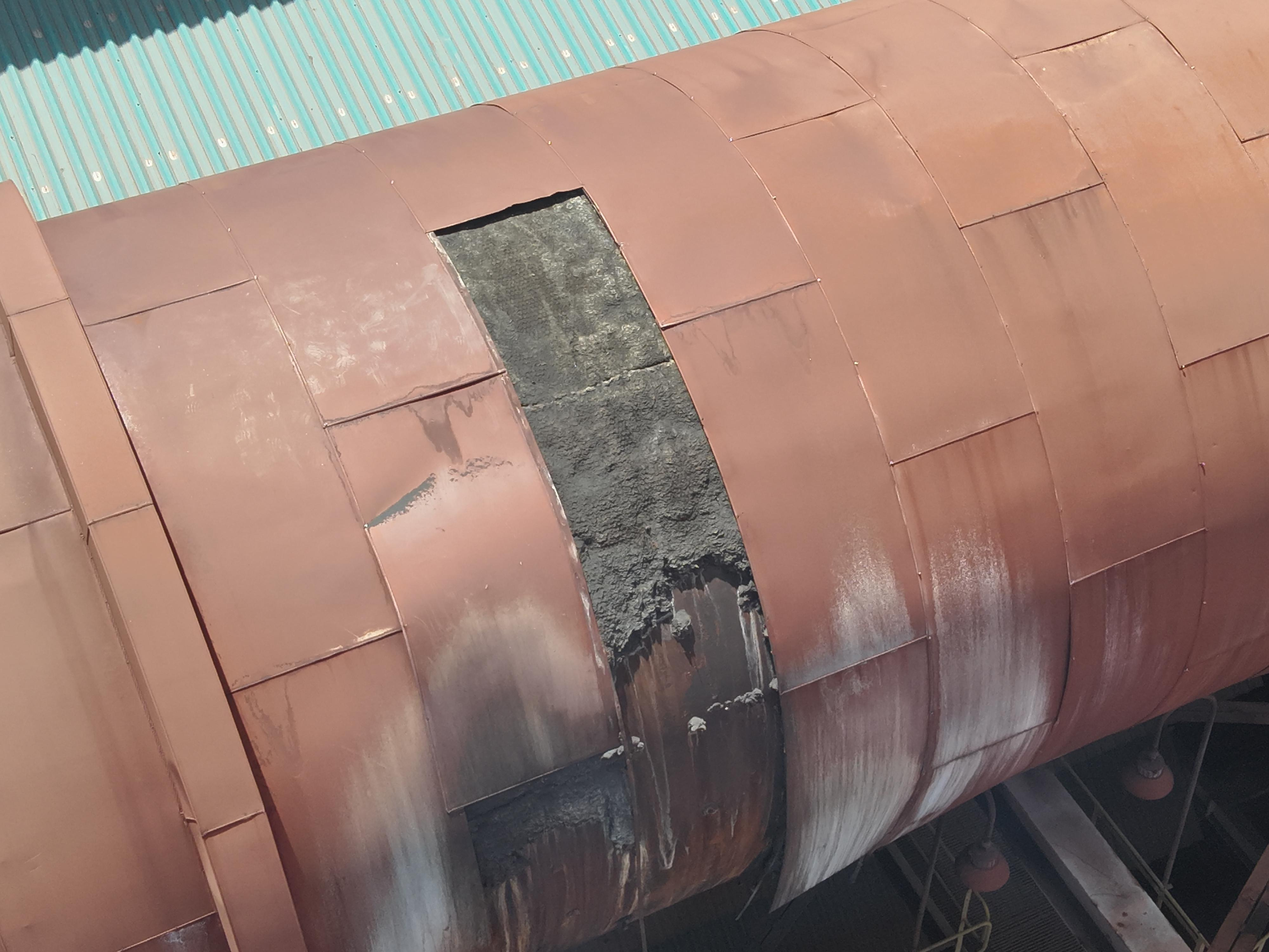Failures: (392, 179, 838, 936)
